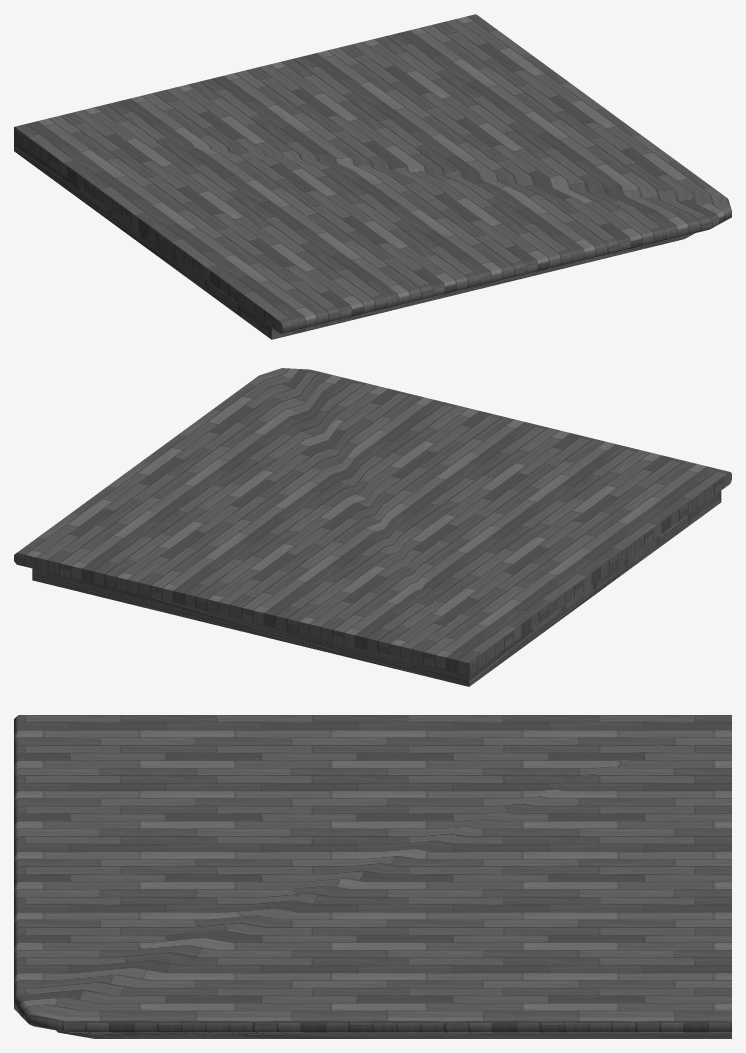
The model's file is SM_Tile_House_FloorDeck_01.obj.
3 views of the same model, one above another, from view 1: azimuth 30°, elevation 25°; view 2: azimuth 150°, elevation 25°; view 3: azimuth 270°, elevation 25° (orthographic). The views are drawn at different scales.
Visible parts, largest first — view 1: SM_Tile_House_FloorDeck_01_mi_HouseInteriorFloor_07; view 2: SM_Tile_House_FloorDeck_01_mi_HouseInteriorFloor_07; view 3: SM_Tile_House_FloorDeck_01_mi_HouseInteriorFloor_07.
Part boxes in pixels (<box>): SM_Tile_House_FloorDeck_01_mi_HouseInteriorFloor_07: <box>14,14,731,339</box>; SM_Tile_House_FloorDeck_01_mi_HouseInteriorFloor_07: <box>14,368,731,686</box>; SM_Tile_House_FloorDeck_01_mi_HouseInteriorFloor_07: <box>14,715,731,1038</box>.
Bounding box in the file's own units: 5 × 0.25 × 5.
1 material, 1 textured.
